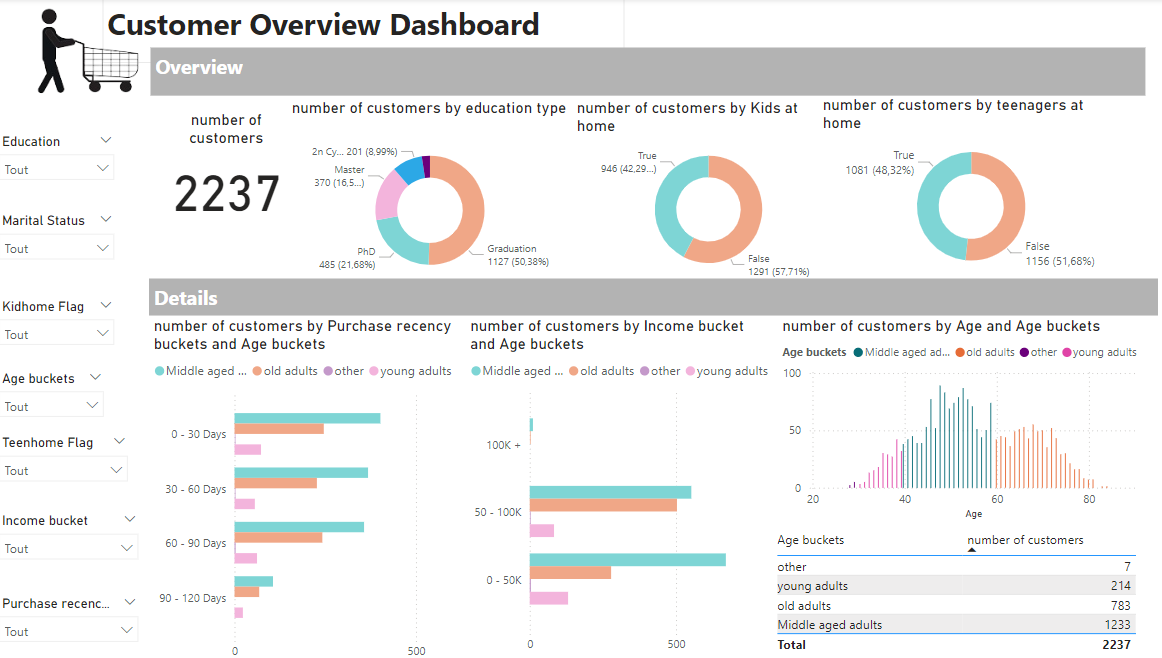

What the dashboard file says about the page in this screenshot:
{"tool":"powerbi","page":{"name":"Page 1","canvas":[1280,720],"ordinal":0},"visuals":[{"type":"slicer","fields":{"Values":["Customer Overview Data.Education"]},"box":[0,140.9,144.1,79.3],"z":0},{"type":"slicer","fields":{"Values":["Customer Overview Data.Marital_Status"]},"box":[0,226.7,144.1,72.9],"z":1000},{"type":"slicer","fields":{"Values":["Customer Overview Data.Kidhome"]},"box":[0,319,144.1,77.7],"z":2000},{"type":"slicer","fields":{"Values":["Customer Overview Data.Teenhome"]},"box":[0,466.3,158.7,77.7],"z":3000},{"type":"textbox","box":[121.4,0,563.5,69.6],"z":4000},{"type":"card","title":"number of customers","fields":{"Values":["Customer Overview Data.customer number"]},"box":[174.2,121.1,160.3,124.7],"z":5000},{"type":"donutChart","title":"number of customers by education type ","fields":{"Y":["Customer Overview Data.customer number"],"Category":["Customer Overview Data.Education"]},"box":[320,108,308,202],"z":6000},{"type":"donutChart","title":"number of customers by Kids at home","fields":{"Category":["Customer Overview Data.Kidhome Flag"],"Y":["Customer Overview Data.customer number"]},"box":[628,108,294,200],"z":7000},{"type":"donutChart","title":"number of customers by teenagers at home","fields":{"Category":["Customer Overview Data.Teenhome Flag"],"Y":["Customer Overview Data.customer number"]},"box":[894,106,330,200],"z":8000},{"type":"clusteredColumnChart","title":"number of customers by Age and Age buckets","fields":{"Y":["Customer Overview Data.customer number"],"Category":["Customer Overview Data.Age"],"Series":["Customer Overview Data.Age buckets"]},"box":[850,344,398,224],"z":9000},{"type":"tableEx","fields":{"Values":["Customer Overview Data.Age buckets","Customer Overview Data.customer number"]},"box":[839.2,568.1,422.6,147.3],"z":10000},{"type":"clusteredBarChart","title":"number of customers by Purchase recency buckets and Age buckets","fields":{"Y":["Customer Overview Data.customer number"],"Series":["Customer Overview Data.Age buckets"],"Category":["Customer Overview Data.Purchase recency buckets"]},"box":[172,344,342,380],"z":11000},{"type":"clusteredBarChart","title":"number of customers by Income bucket and Age buckets","fields":{"Y":["Customer Overview Data.customer number"],"Series":["Customer Overview Data.Age buckets"],"Category":["Customer Overview Data.Income bucket"]},"box":[513.3,343.3,336.8,372.4],"z":12000},{"type":"slicer","fields":{"Values":["Customer Overview Data.Income bucket"]},"box":[0,550.5,170,85.8],"z":13000},{"type":"slicer","fields":{"Values":["Customer Overview Data.Purchase recency buckets"]},"box":[0,639.6,170,77.7],"z":14000},{"type":"slicer","fields":{"Values":["Customer Overview Data.Age buckets"]},"box":[0,396.7,132.8,71.2],"z":15000},{"type":"textbox","box":[172,302,1090,40],"z":16000},{"type":"textbox","box":[174,54,1074,52],"z":17000},{"type":"image","box":[38.9,0,131.2,121.4],"z":18000}]}

Visuals, with their boxes in screenshot pixels (x1, y1, x2, y2):
slicer - Customer Overview Data.Education: select_region(82, 173, 206, 242)
slicer - Customer Overview Data.Marital_Status: select_region(82, 247, 206, 310)
slicer - Customer Overview Data.Kidhome: select_region(82, 327, 206, 394)
slicer - Customer Overview Data.Teenhome: select_region(82, 454, 219, 521)
textbox: select_region(187, 51, 673, 112)
"number of customers" card: select_region(232, 156, 371, 264)
"number of customers by education type " donutChart: select_region(358, 145, 624, 319)
"number of customers by Kids at home" donutChart: select_region(624, 145, 878, 317)
"number of customers by teenagers at home" donutChart: select_region(854, 143, 1139, 316)
"number of customers by Age and Age buckets" clusteredColumnChart: select_region(816, 348, 1159, 542)
tableEx - Customer Overview Data.Age buckets x Customer Overview Data.customer number: select_region(806, 542, 1161, 657)
"number of customers by Purchase recency buckets and Age buckets" clusteredBarChart: select_region(230, 348, 526, 657)
"number of customers by Income bucket and Age buckets" clusteredBarChart: select_region(525, 348, 816, 657)
slicer - Customer Overview Data.Income bucket: select_region(82, 527, 228, 601)
slicer - Customer Overview Data.Purchase recency buckets: select_region(82, 604, 228, 657)
slicer - Customer Overview Data.Age buckets: select_region(82, 394, 196, 455)
textbox: select_region(230, 312, 1161, 347)
textbox: select_region(232, 98, 1159, 143)
image: select_region(115, 51, 229, 156)
